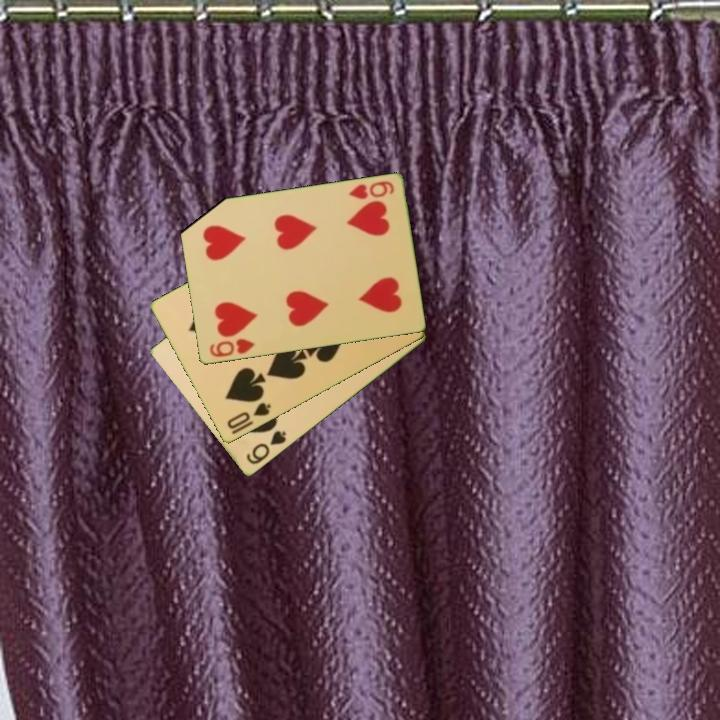10s: (223, 399, 274, 438)
6h: (345, 178, 397, 203), (206, 335, 257, 360)
6s: (243, 427, 289, 468)
